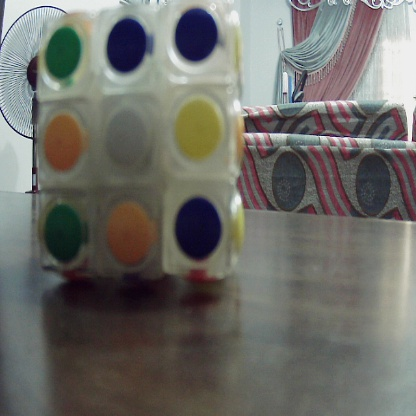Rubix Cube: (40, 10, 246, 282)
